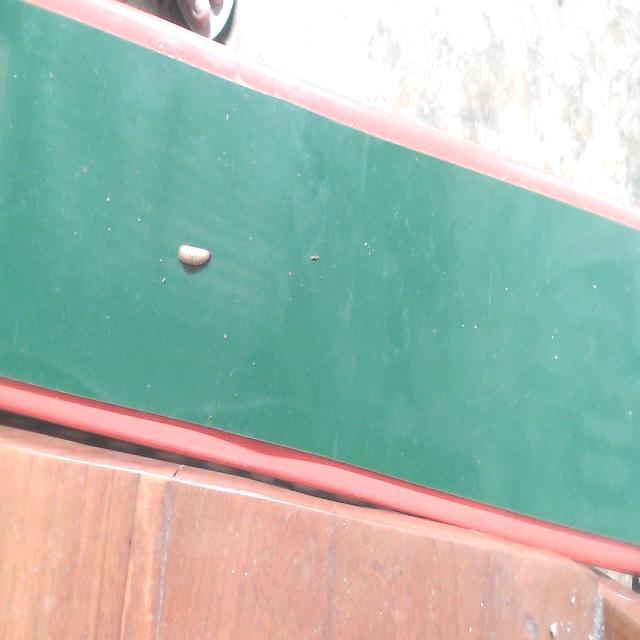Maggot: (177, 244, 212, 274)
